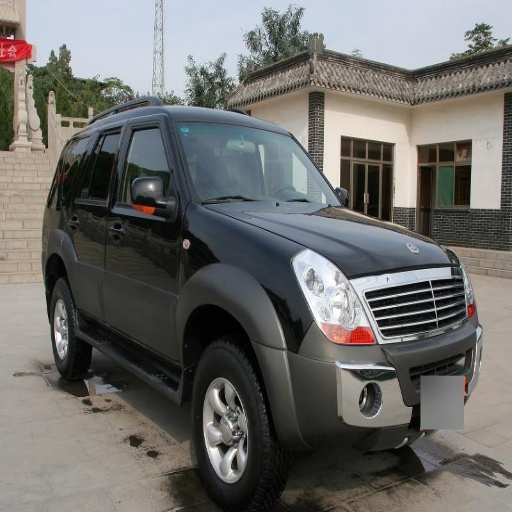back_left_light: (62, 119, 126, 324)
back_right_light: (259, 267, 476, 445)
front_bumper: (178, 121, 341, 212)
front_left_light: (103, 117, 179, 357)
front_right_door: (292, 246, 374, 344)
front_right_light: (211, 202, 455, 276)
trunk: (190, 339, 286, 511), (49, 276, 88, 380)
